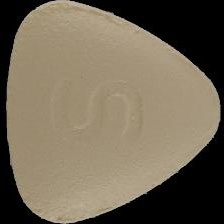16714-531: (0, 0, 224, 224)
